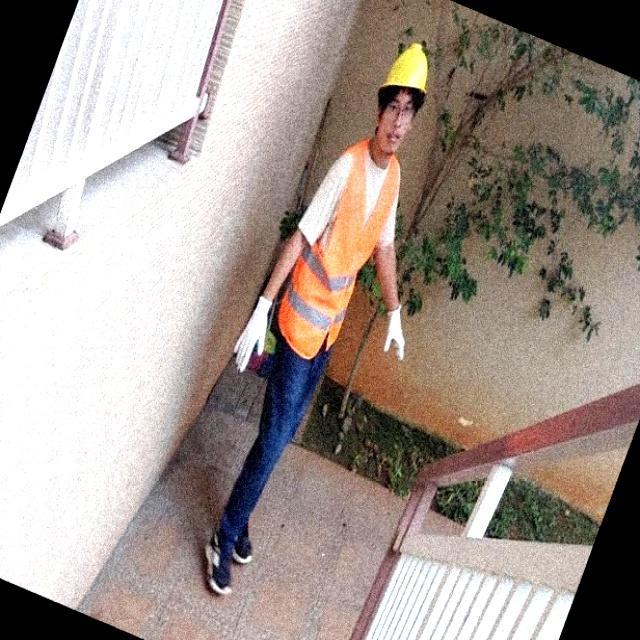helmet: (379, 41, 435, 98)
safety_vest: (276, 145, 406, 370)
